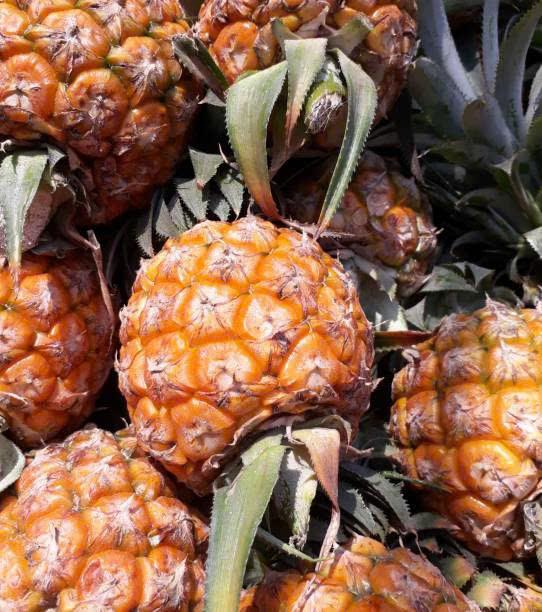pineapple: (123, 220, 387, 476), (368, 267, 542, 544), (1, 4, 226, 204), (0, 417, 185, 609), (203, 3, 419, 164), (14, 174, 107, 429)
